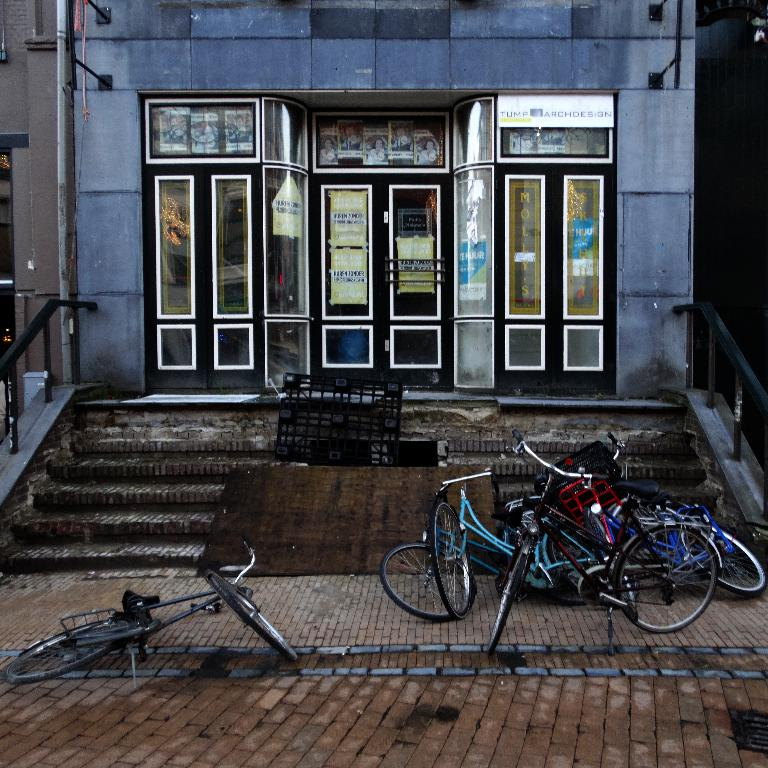door: (382, 182, 442, 388), (320, 187, 374, 383)
